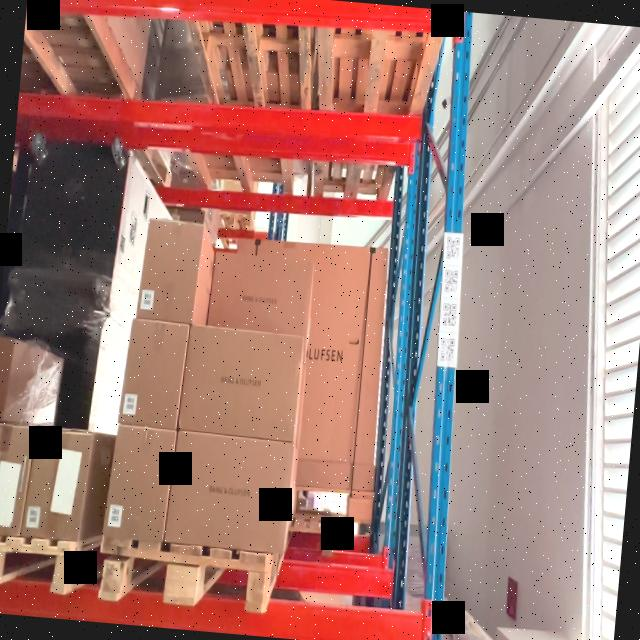box: (167, 438, 286, 551), (179, 329, 299, 441), (206, 253, 311, 341), (104, 428, 174, 543), (117, 321, 189, 430), (137, 222, 201, 321)
